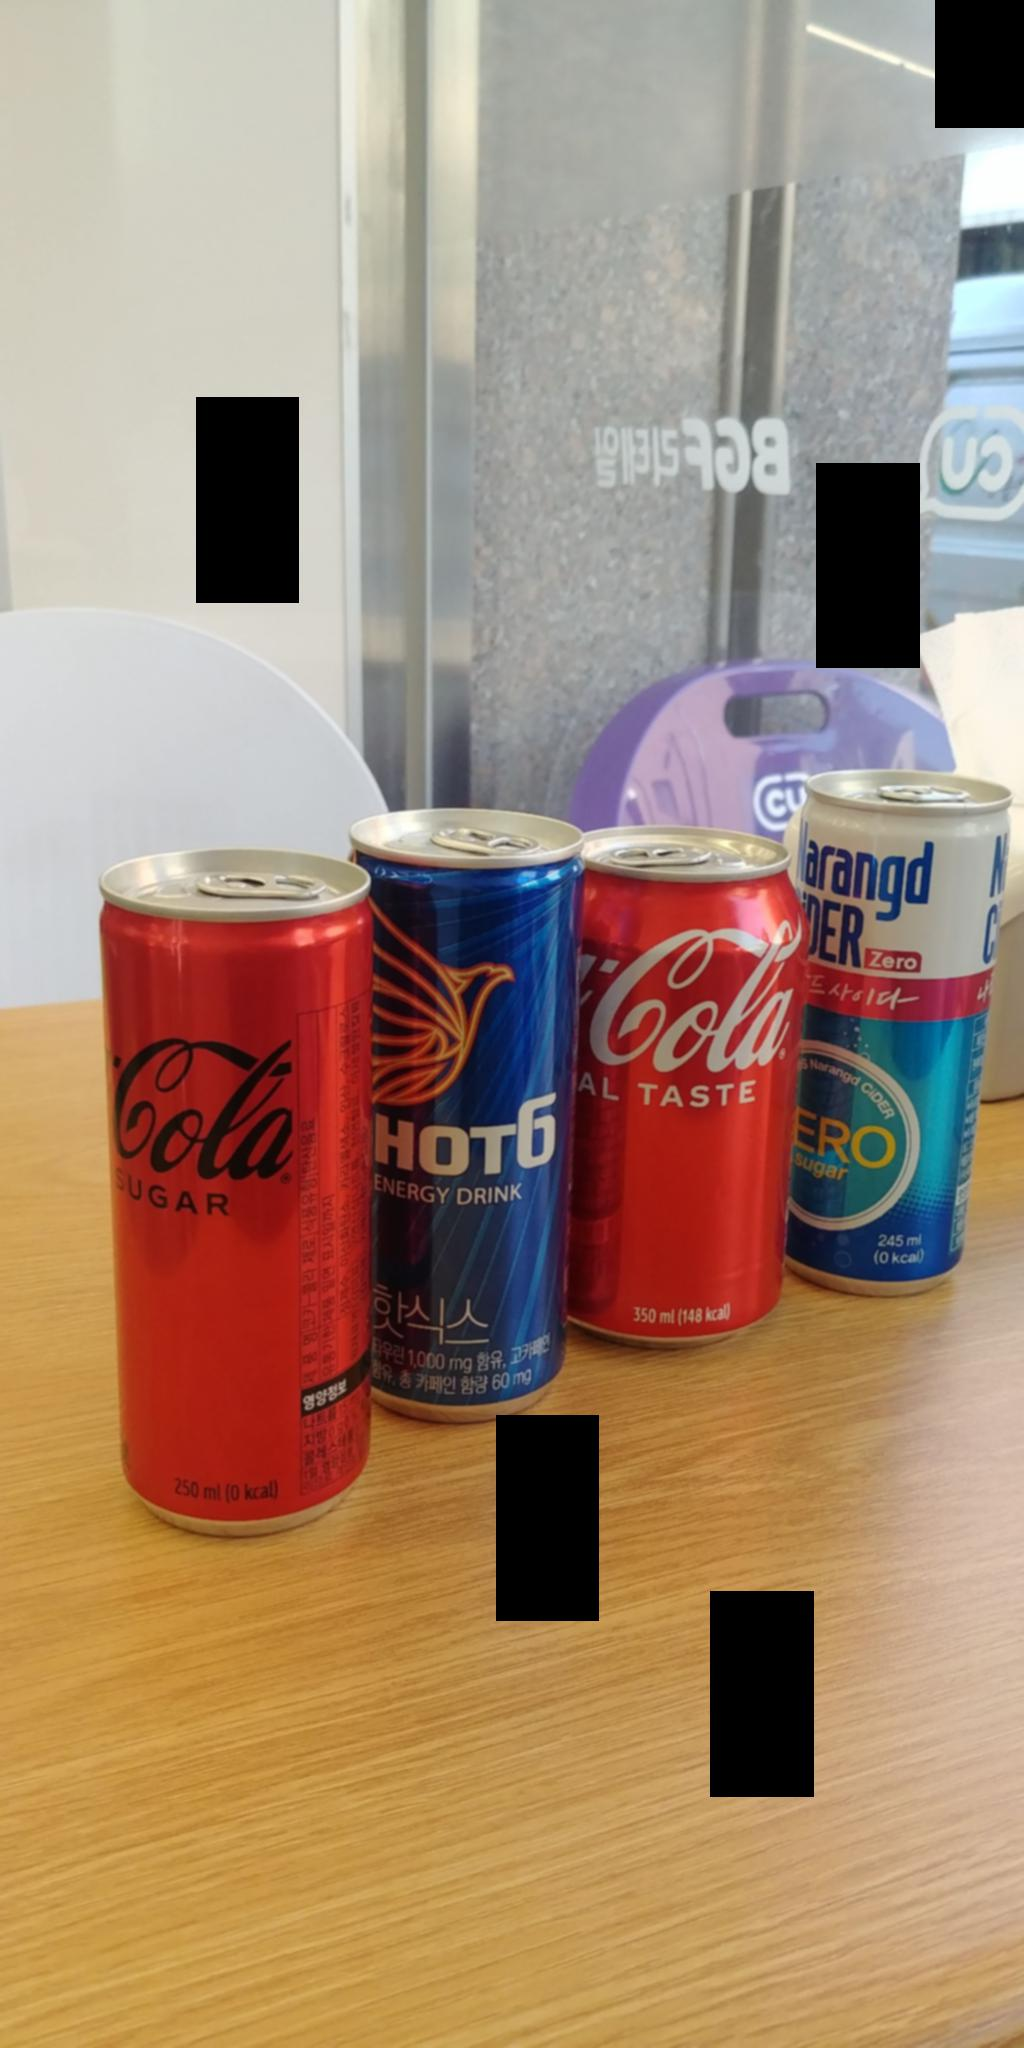cocacola: (572, 842, 788, 1378)
hotsix_org: (387, 818, 568, 1383)
narangdcider: (785, 754, 991, 1317)
